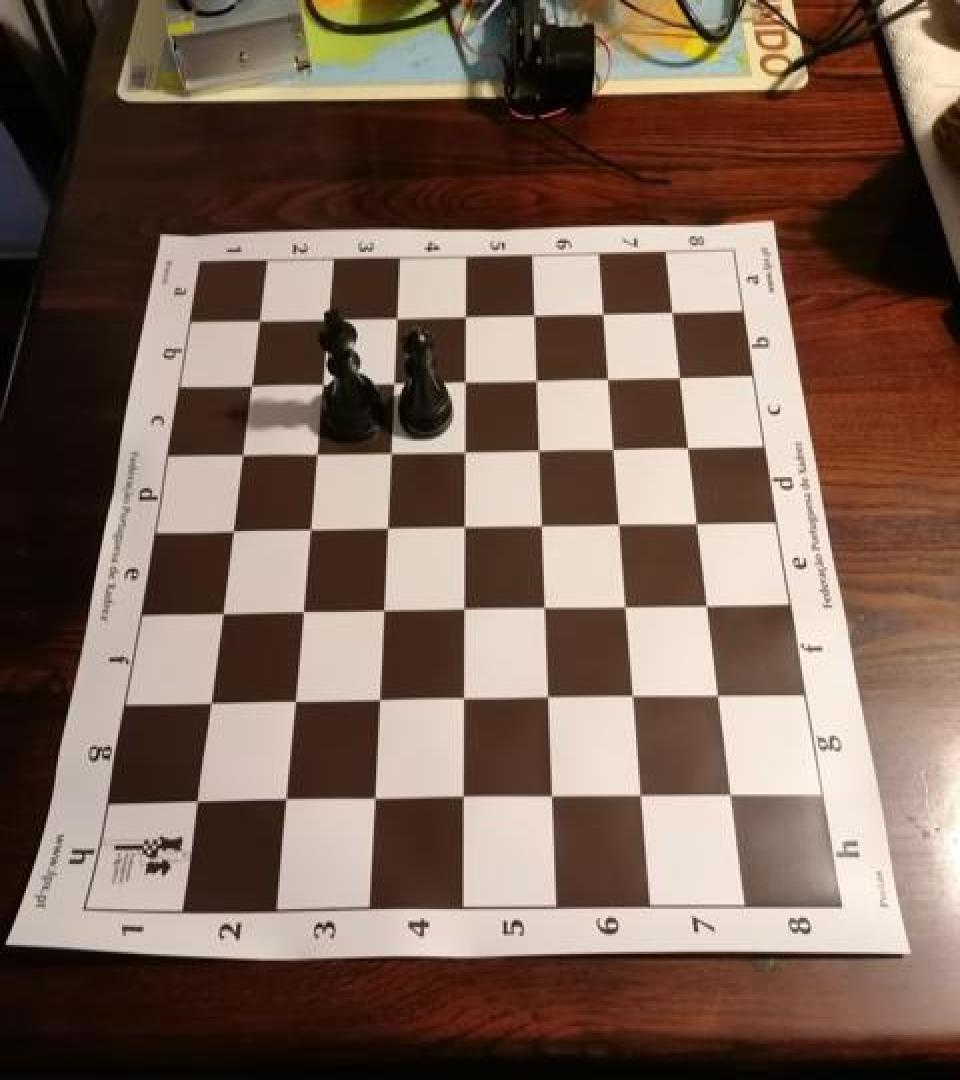xcorner: (525, 588, 557, 625), (622, 777, 654, 814), (531, 777, 563, 814), (441, 778, 473, 815), (352, 778, 384, 815), (657, 294, 689, 330), (586, 296, 618, 332), (517, 298, 549, 334), (447, 300, 479, 336), (378, 302, 410, 338), (310, 304, 342, 340), (242, 306, 274, 342), (664, 358, 696, 394), (591, 360, 623, 396), (519, 362, 551, 398), (446, 364, 478, 400), (375, 366, 407, 402), (304, 368, 336, 404), (233, 369, 265, 405), (673, 428, 705, 464), (596, 430, 628, 466), (521, 431, 553, 467), (445, 433, 477, 469), (371, 434, 403, 470), (297, 436, 329, 472), (223, 438, 255, 474), (682, 503, 714, 539), (602, 505, 634, 541), (523, 506, 555, 542), (445, 508, 477, 544), (367, 510, 399, 546), (289, 511, 321, 547), (213, 512, 245, 548), (692, 586, 724, 622), (608, 587, 640, 623), (443, 590, 475, 626), (362, 590, 394, 626), (281, 592, 313, 628), (201, 593, 233, 629), (702, 677, 734, 713), (615, 677, 647, 713), (528, 678, 560, 714), (442, 680, 474, 716), (357, 680, 389, 716), (273, 682, 305, 718), (189, 682, 221, 718), (714, 776, 746, 812), (263, 780, 295, 816), (175, 780, 207, 816)
